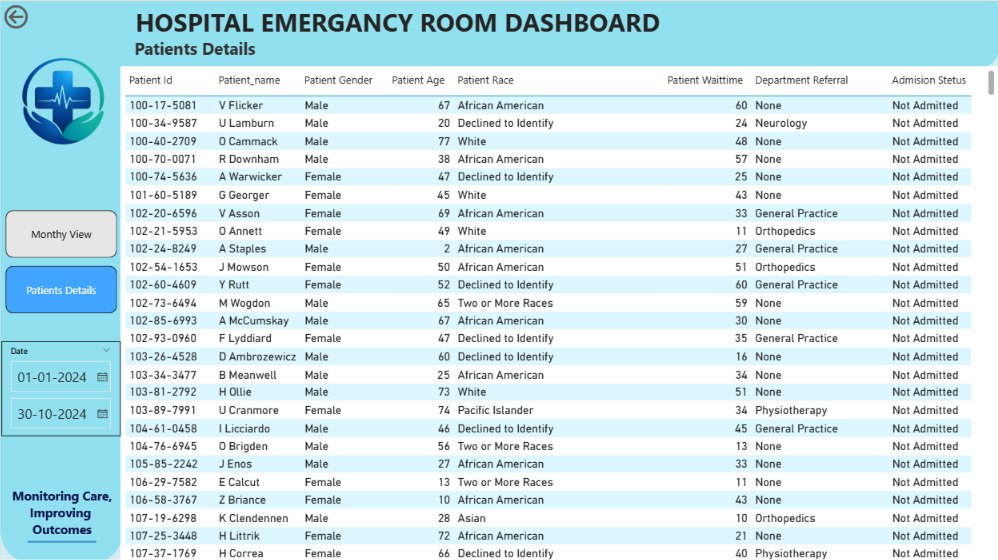

This screenshot's page, from the dashboard's own definition file:
{"tool":"powerbi","page":{"name":"Patients Details ","canvas":[1280,720],"ordinal":1},"visuals":[{"type":"shape","box":[0,0,157.1,720],"z":0},{"type":"shape","box":[0,0,1279.7,84.1],"z":1000},{"type":"textbox","box":[168.6,0,971.4,128.6],"z":2000},{"type":"tableEx","fields":{"Values":["Hospital ER_Data.Patient Id","Hospital ER_Data.Patient_name","Hospital ER_Data.Patient Gender","Sum(Hospital ER_Data.Patient Age)","Hospital ER_Data.Patient Race","Sum(Hospital ER_Data.Patient Waittime)","Hospital ER_Data.Department Referral","Hospital ER_Data.Admision Stetus"]},"box":[154.3,82.9,1125.7,637.1],"z":3000},{"type":"actionButton","box":[0,0,100,40],"z":4000},{"type":"pageNavigator","box":[6,267.8,143.6,132.7],"z":5000},{"type":"textbox","box":[167.1,41.4,232.9,41.4],"z":6000},{"type":"slicer","fields":{"Values":["Date Table.Date"]},"box":[1.4,435.7,152.9,121.4],"z":7000},{"type":"image","box":[0,44.3,157.1,165.7],"z":7001},{"type":"textbox","box":[2.9,618.6,152.9,91.4],"z":7002},{"type":"shape","box":[34.6,674.4,88.5,37.2],"z":7003}]}

Visuals, with their boxes in screenshot pixels (x1, y1, x2, y2), scaled from the page's 1280x720 canvas onto the 998x560 screenshot:
shape: [left=0, top=0, right=122, bottom=559]
shape: [left=0, top=0, right=997, bottom=65]
textbox: [left=131, top=0, right=889, bottom=100]
tableEx - Hospital ER_Data.Patient Id x Hospital ER_Data.Patient_name: [left=120, top=64, right=997, bottom=559]
actionButton: [left=0, top=0, right=78, bottom=31]
pageNavigator: [left=5, top=208, right=117, bottom=312]
textbox: [left=130, top=32, right=312, bottom=64]
slicer - Date Table.Date: [left=1, top=339, right=120, bottom=433]
image: [left=0, top=34, right=122, bottom=163]
textbox: [left=2, top=481, right=121, bottom=552]
shape: [left=27, top=525, right=96, bottom=553]
